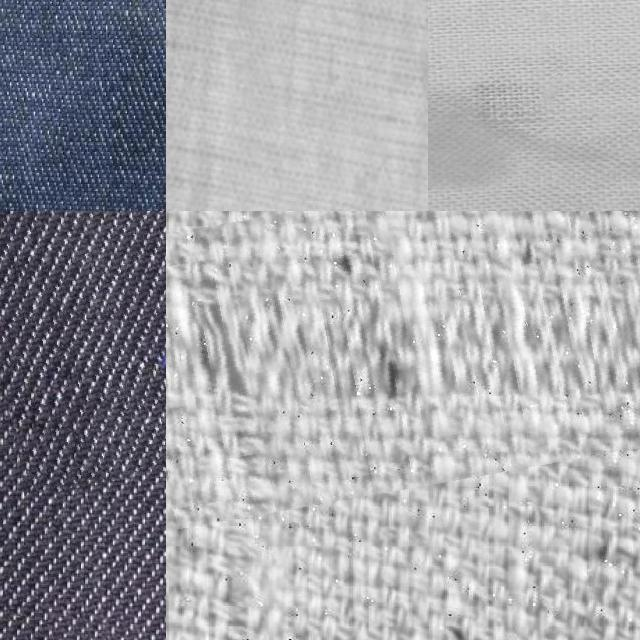stains: (166, 211, 640, 513), (0, 211, 166, 480)
